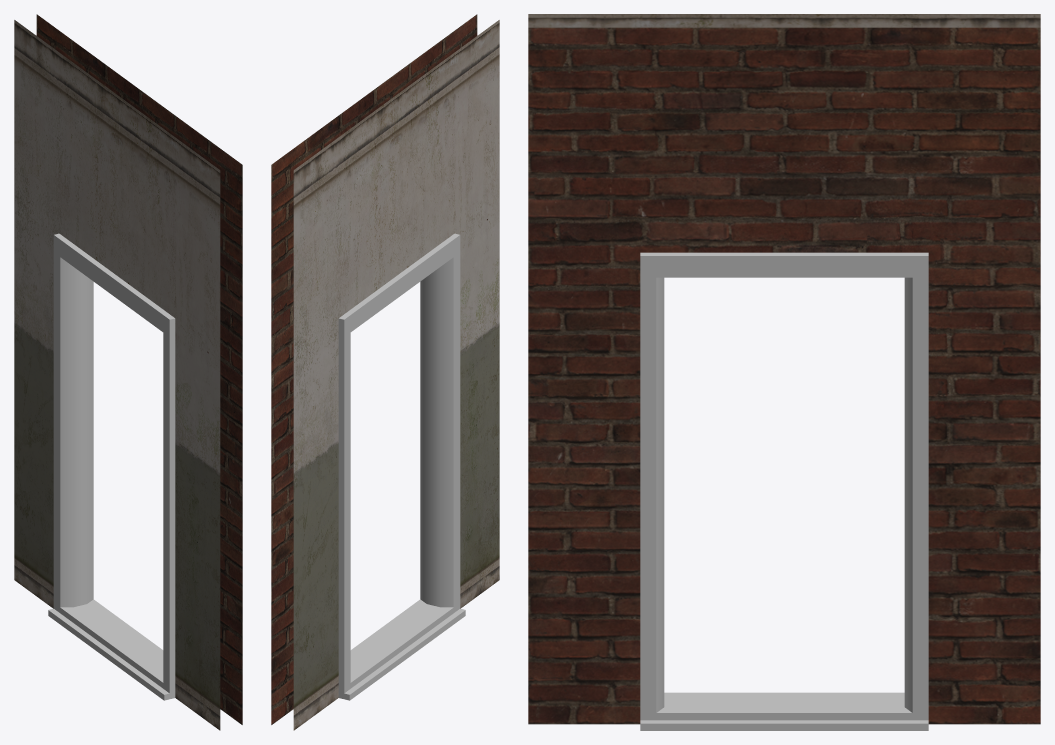
The model's file is wall_doorsmall_tile_128x8x192.fbx.
3 renders of one model, left to right at view 1: azimuth 30°, elevation 25°; view 2: azimuth 150°, elevation 25°; view 3: azimuth 270°, elevation 25°, orthographic. The views are drawn at different scales.
Visible parts, largest first — view 1: wall_doorsmall_tile_128x16x192; view 2: wall_doorsmall_tile_128x16x192; view 3: wall_doorsmall_tile_128x16x192.
Part boxes in pixels (box(x1,y1,x2,y2)): wall_doorsmall_tile_128x16x192: box(14, 14, 242, 730); wall_doorsmall_tile_128x16x192: box(271, 14, 499, 730); wall_doorsmall_tile_128x16x192: box(528, 14, 1040, 730).
Size of the model in its own units: 16 by 192 by 128.
